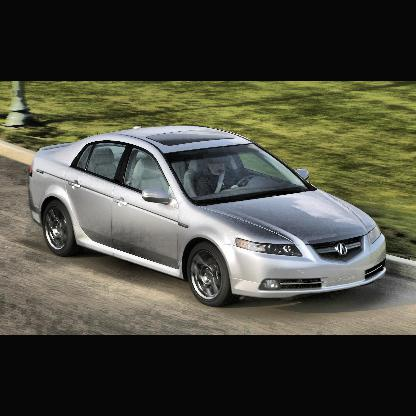Acura TL Type-S 2008: (30, 125, 389, 308)
